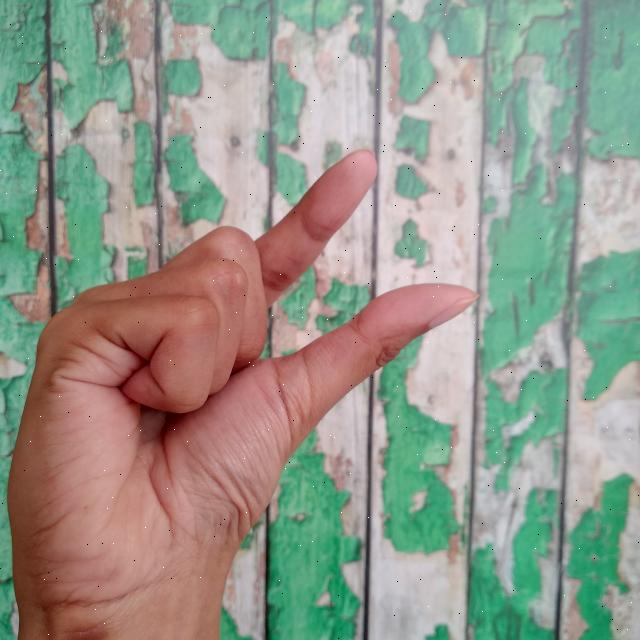G: (3, 146, 486, 640)
